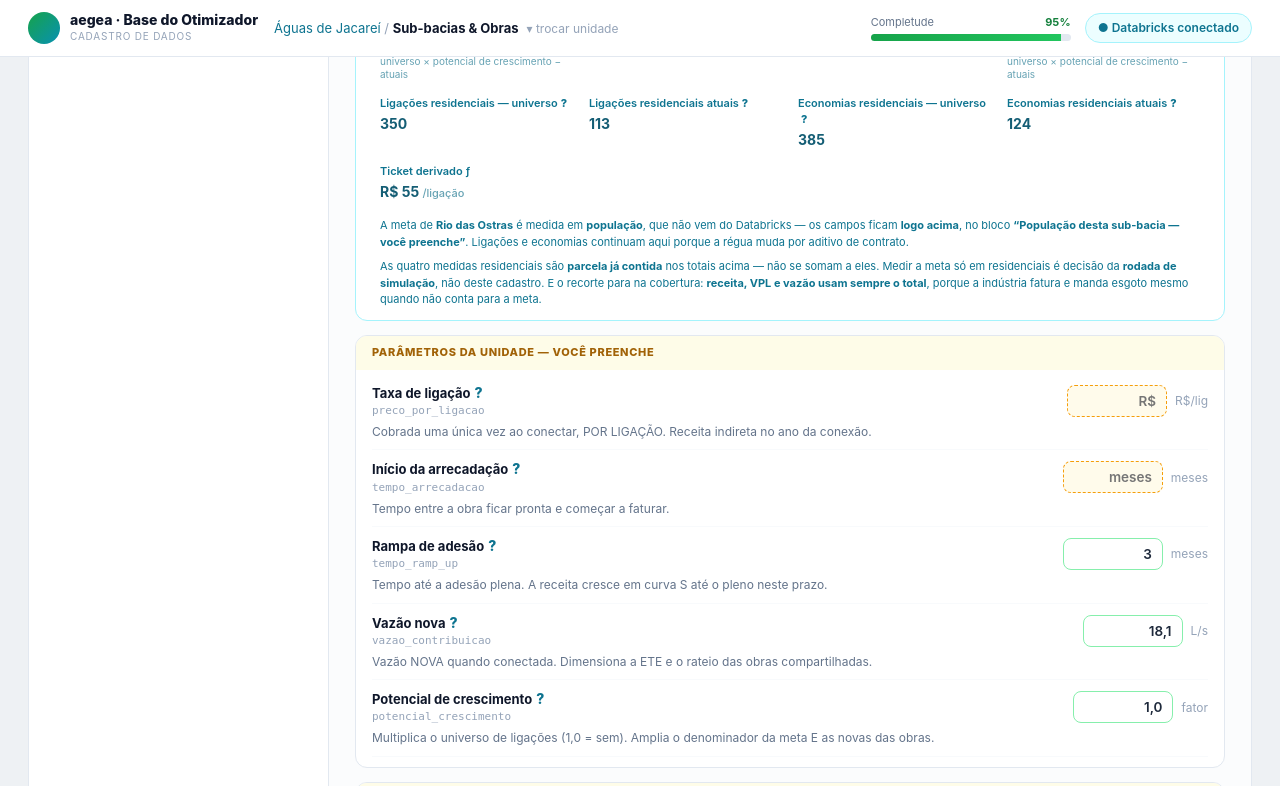
Scenario: salvar sub-bacia › falha do servidor avisa e mantém as edições na tela
(page scrolled)
In the field labelled "Taxa de ligação": (1117,401) [1067,385,1167,417], type "1.234"
(page scrolled)
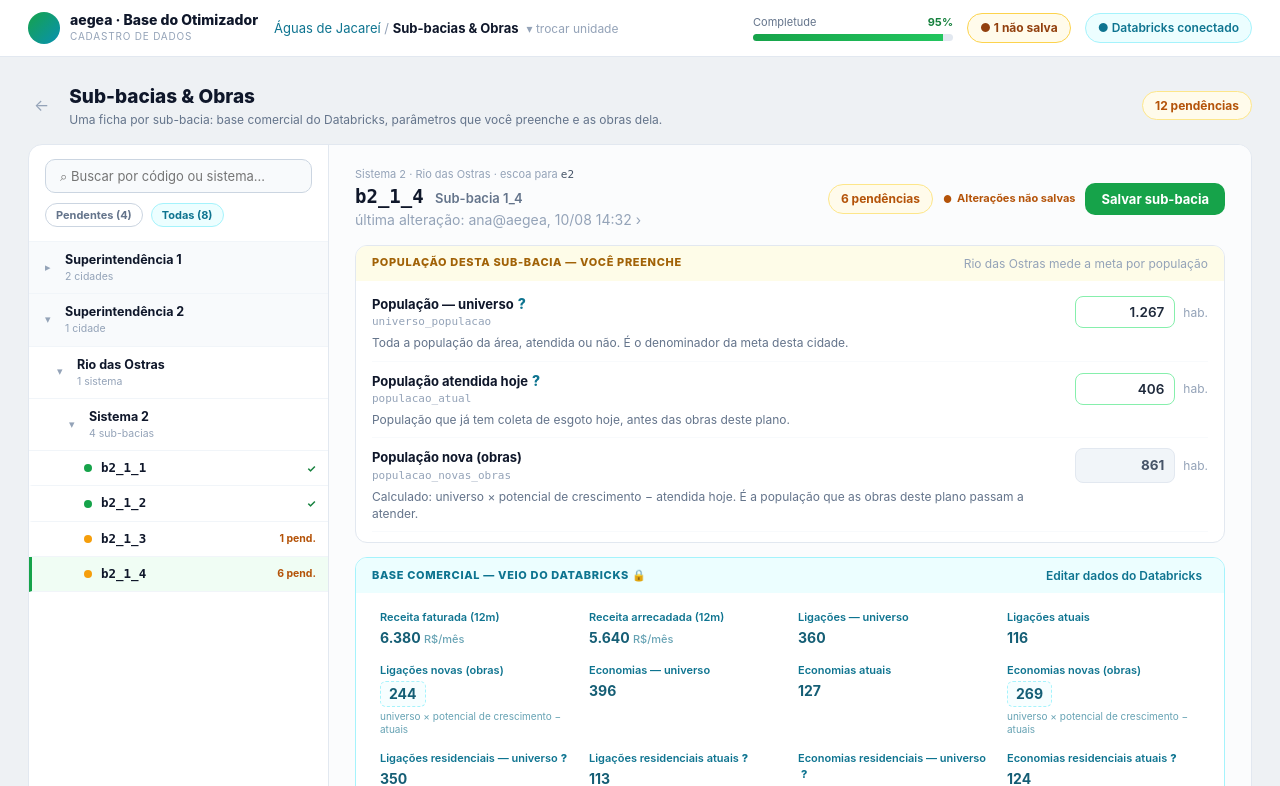
Click the button "Salvar sub-bacia": (1155,199) [1086,183,1225,215]
(page scrolled)
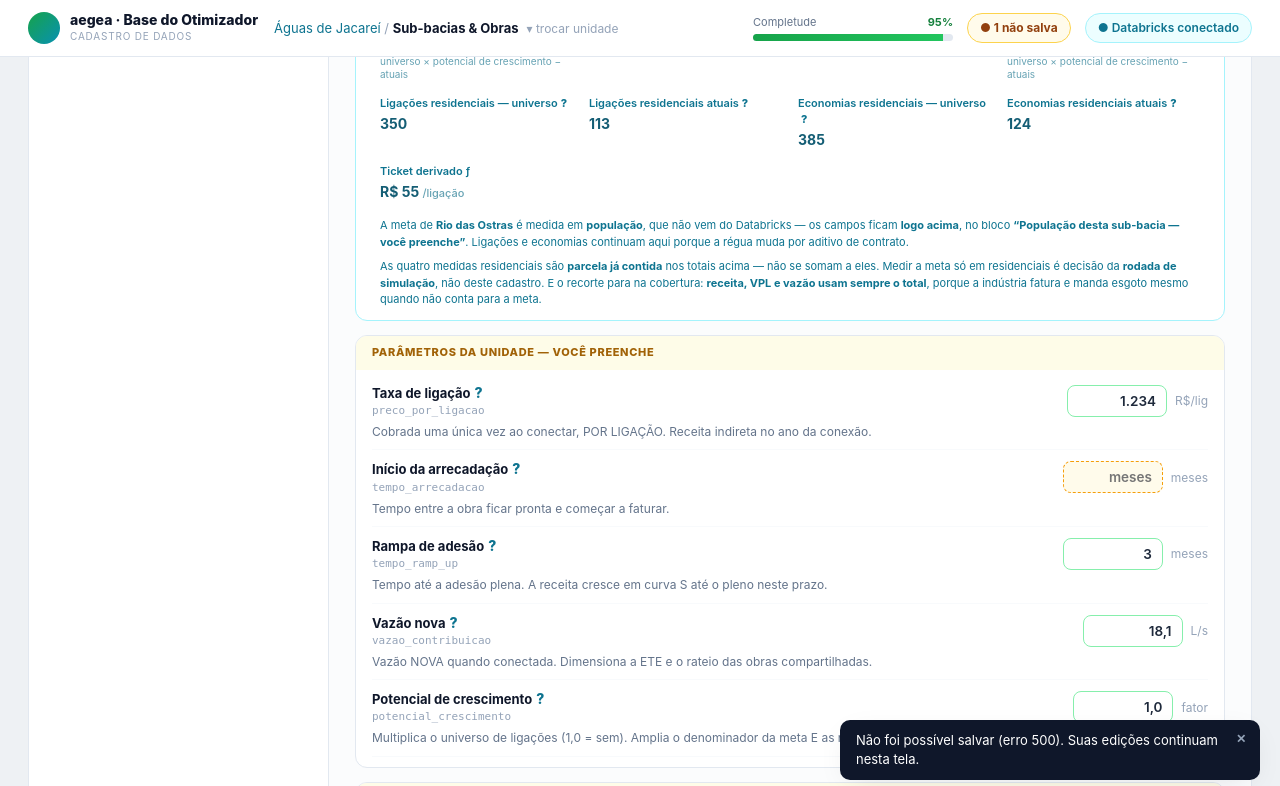
Now the text "Não foi possível salvar (erro 500)" is shown, box [856,732,1218,767]
